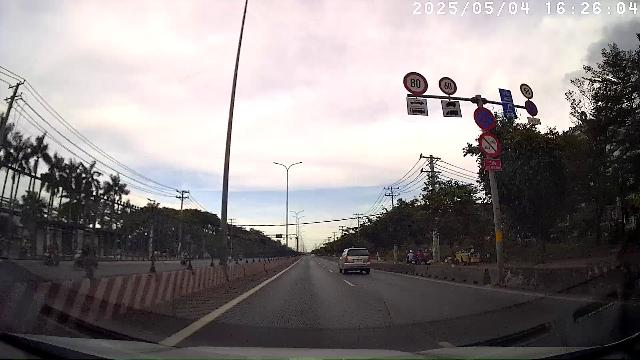127-toc-do-toi-da-50: (520, 82, 535, 99)
127-toc-do-toi-da-60: (437, 76, 458, 95)
127-toc-do-toi-da-80: (402, 71, 429, 94)
130-cam-dung-va-do-xe: (473, 106, 496, 130)
